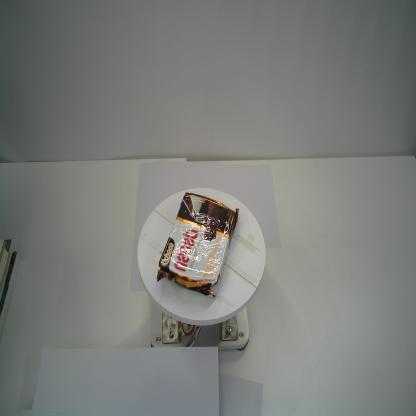Dessert: (155, 188, 241, 300)
